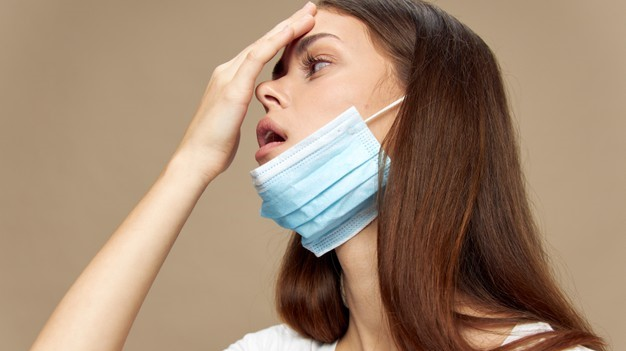with_incorrect_mask: (248, 26, 372, 242)
